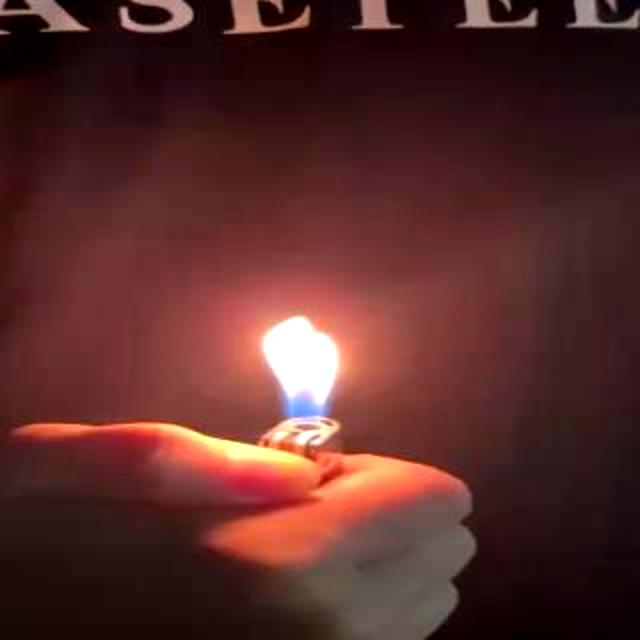fire: (260, 315, 340, 456)
